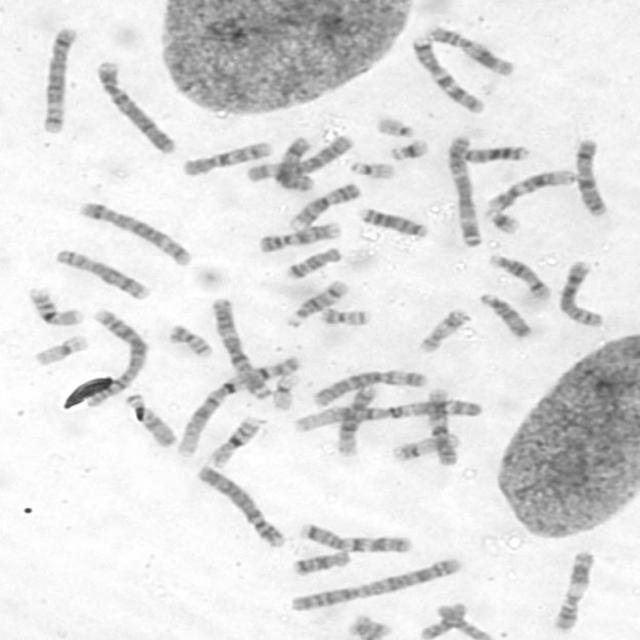A1: (170, 350, 304, 459), (288, 396, 484, 434)
A2: (285, 554, 464, 613), (81, 307, 149, 408)
A3: (206, 295, 272, 400), (444, 131, 484, 248)
B4: (91, 55, 180, 156), (192, 461, 288, 549)
B5: (76, 198, 195, 268), (38, 22, 81, 134)
C10: (179, 138, 275, 177), (423, 384, 459, 467)
C11: (422, 23, 518, 77), (548, 547, 597, 632)
C12: (483, 165, 578, 213), (330, 381, 380, 457)
C6: (241, 131, 356, 183), (310, 367, 427, 407)
C7: (409, 33, 488, 115), (296, 518, 415, 555)
C8: (51, 244, 152, 300), (555, 257, 605, 329)
C9: (285, 180, 363, 231), (252, 216, 342, 254)
D13: (355, 203, 430, 240), (457, 142, 531, 164)
D14: (279, 275, 350, 329), (485, 251, 552, 300)
D15: (122, 389, 181, 449), (475, 290, 535, 340)
E16: (207, 412, 266, 468), (25, 283, 86, 327)
E17: (413, 304, 473, 355), (387, 428, 463, 464)
E18: (280, 243, 344, 280), (289, 546, 353, 577)
F19: (29, 331, 90, 367), (268, 368, 302, 412)
F20: (163, 319, 216, 358), (316, 304, 372, 326)
G21: (481, 206, 524, 235), (386, 136, 432, 162)
G22: (346, 157, 398, 180), (371, 112, 417, 138)
X: (570, 133, 610, 218), (273, 132, 317, 192)
